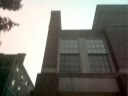window: (113, 42, 126, 63), (102, 49, 111, 68), (109, 80, 117, 95), (121, 78, 128, 94)
